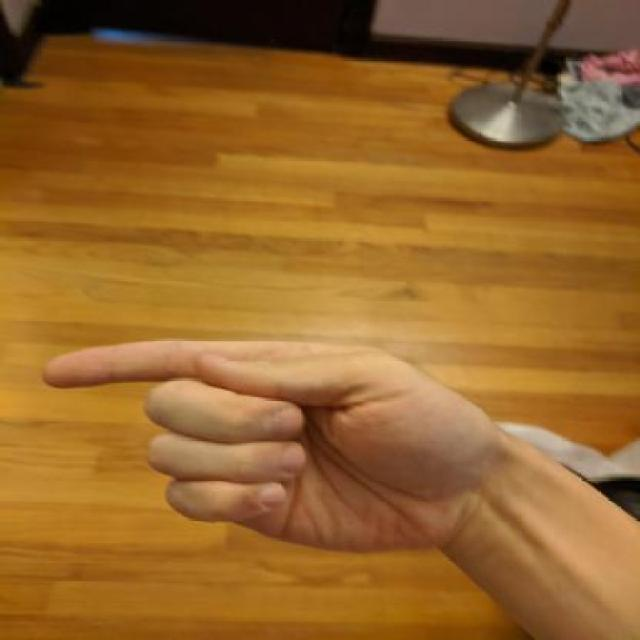G: (34, 333, 567, 562)
